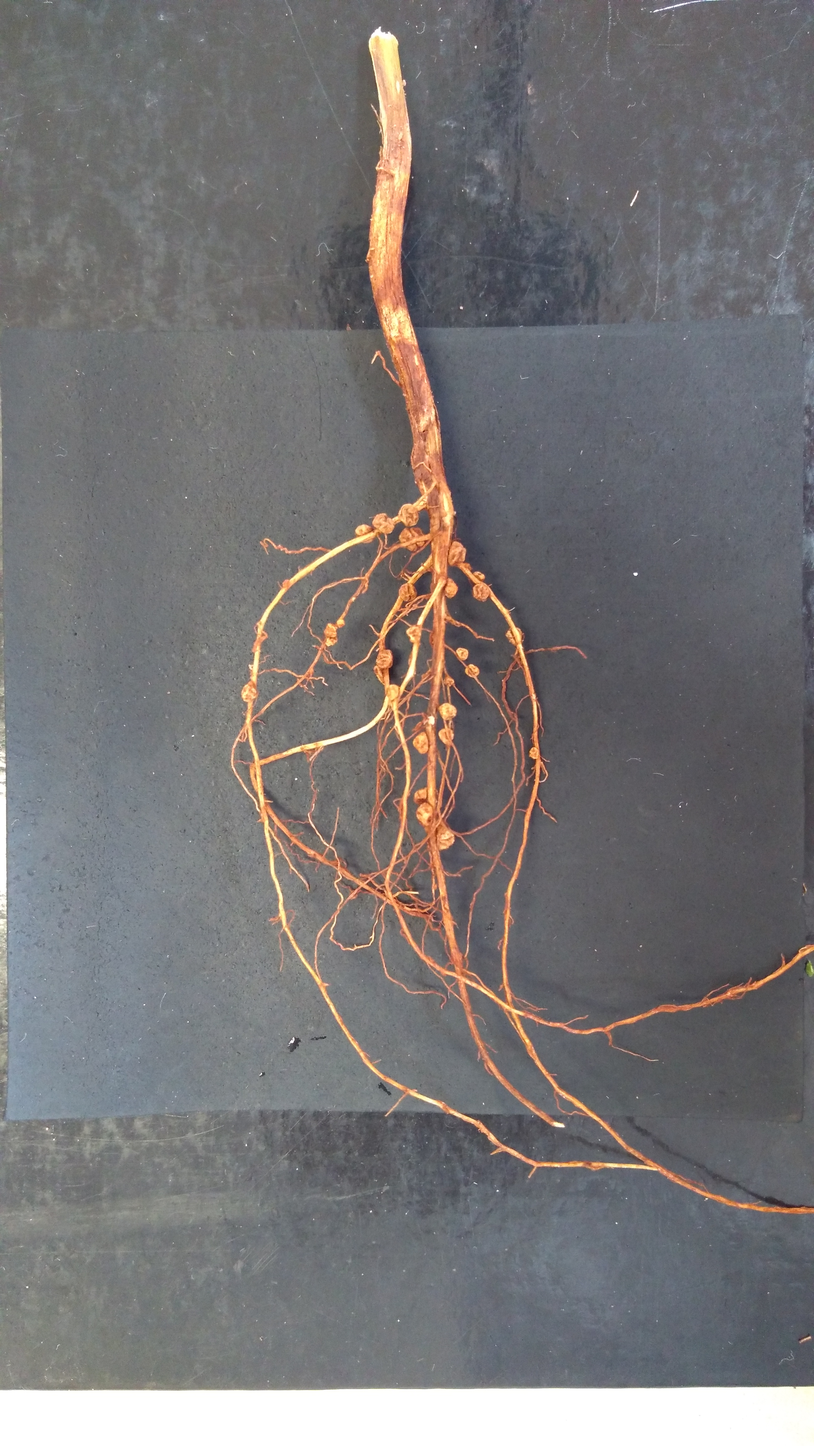nodule: (398, 526, 426, 553), (435, 823, 455, 852), (397, 503, 420, 528), (447, 540, 467, 568), (414, 801, 435, 827), (372, 512, 395, 535), (354, 523, 375, 544), (240, 680, 259, 703), (398, 582, 419, 602), (375, 648, 395, 669), (412, 731, 429, 755), (472, 582, 491, 603), (504, 626, 523, 646), (438, 702, 458, 721), (444, 576, 459, 600), (412, 787, 430, 805), (404, 626, 422, 643), (437, 728, 455, 745), (464, 663, 480, 679), (385, 684, 400, 701), (373, 665, 385, 683), (455, 647, 470, 661), (323, 622, 337, 637), (527, 746, 539, 760), (472, 570, 486, 581), (443, 676, 456, 687), (325, 637, 338, 647), (336, 619, 345, 628)
